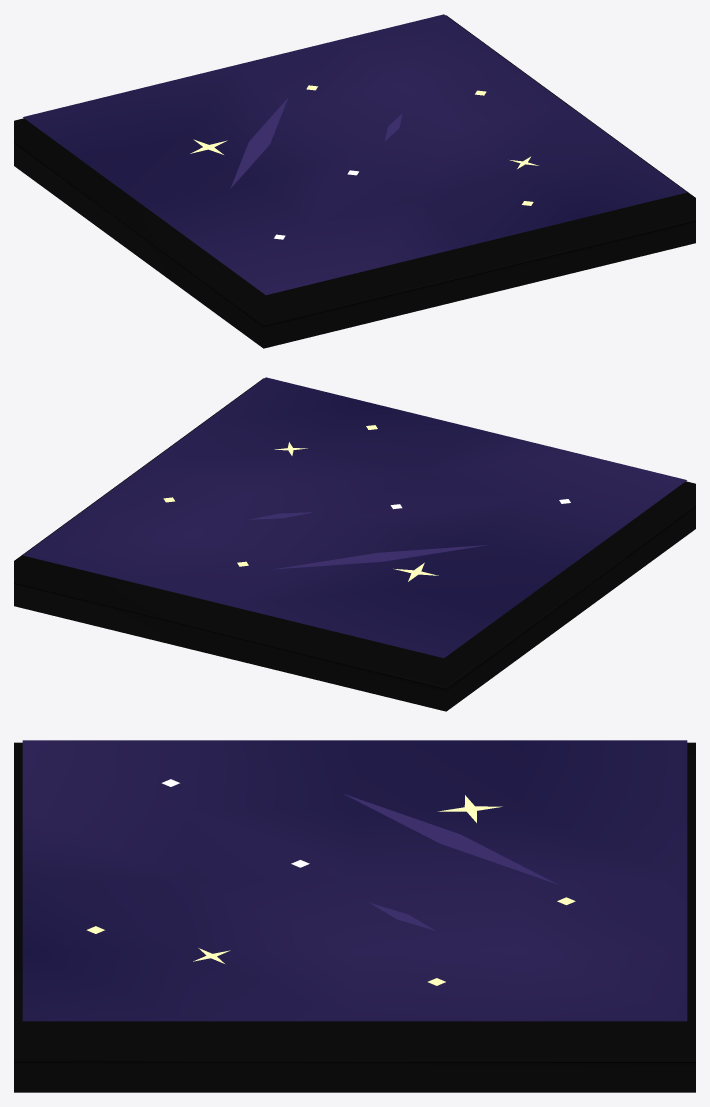
File: floor_stage.glb
The picture shows the model from 3 angles, top to bottom: view 1: azimuth 30°, elevation 25°; view 2: azimuth 150°, elevation 25°; view 3: azimuth 270°, elevation 25°; orthographic projection. The views are drawn at different scales.
Parts seen in each view (by area): view 1: Tile.001, Gloss, Glitter; view 2: Tile.001, Gloss, Glitter; view 3: Tile.001, Gloss, Glitter.
Boxes of the visible parts, x1=… form: Tile.001: x1=14, y1=14, x2=695, y2=348; Gloss: x1=230, y1=97, x2=402, y2=188; Glitter: x1=190, y1=85, x2=538, y2=239; Tile.001: x1=14, y1=377, x2=695, y2=711; Gloss: x1=249, y1=512, x2=487, y2=569; Glitter: x1=163, y1=425, x2=570, y2=581; Tile.001: x1=14, y1=740, x2=695, y2=1092; Gloss: x1=343, y1=793, x2=558, y2=930; Glitter: x1=86, y1=779, x2=575, y2=985.
Bounding box in the file's own units: 1 × 0.114 × 1.
